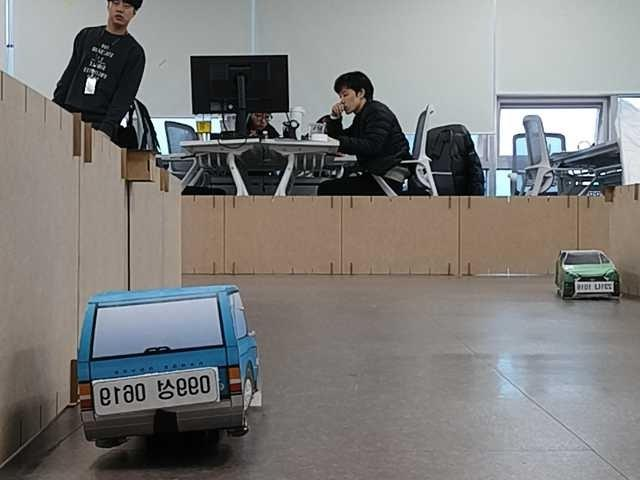car: (75, 284, 259, 448), (554, 250, 620, 300)
id: (93, 364, 217, 414), (575, 280, 613, 294)
